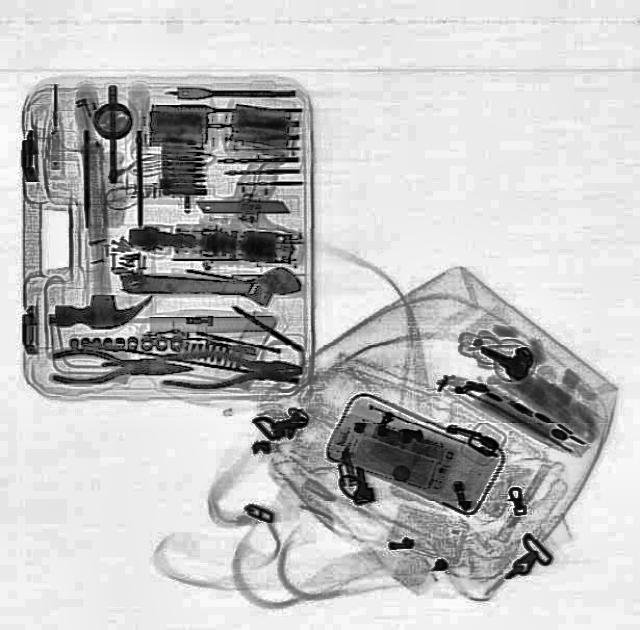Pliers: (158, 348, 302, 390), (50, 348, 190, 385)
Wrench: (122, 264, 300, 306)
